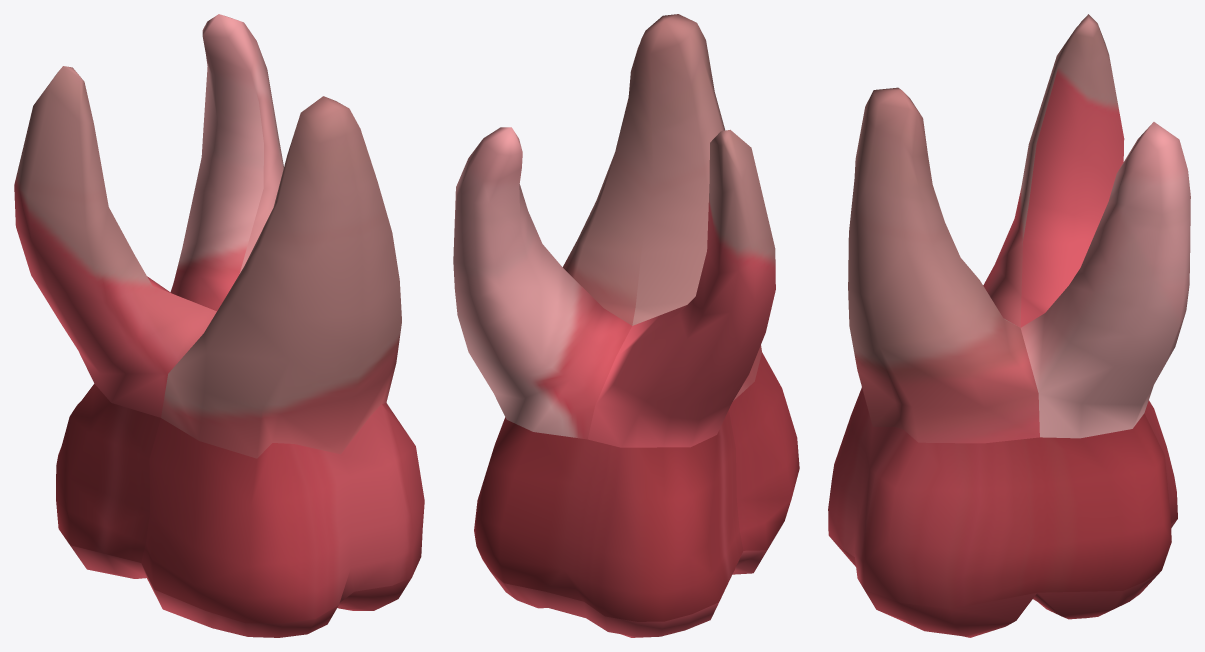
The model's file is L_BabyMolar_2.fbx.
3 renders of one model, left to right at view 1: azimuth 30°, elevation 25°; view 2: azimuth 150°, elevation 25°; view 3: azimuth 270°, elevation 25°, orthographic. The views are drawn at different scales.
Visible parts, largest first — view 1: baby_uppermolar; view 2: baby_uppermolar; view 3: baby_uppermolar.
Part boxes in pixels (x1,y1,x2,y2): baby_uppermolar: (14, 14, 424, 637); baby_uppermolar: (453, 14, 799, 637); baby_uppermolar: (828, 14, 1190, 637).
Size of the model in its own units: 110 by 178 by 113.
